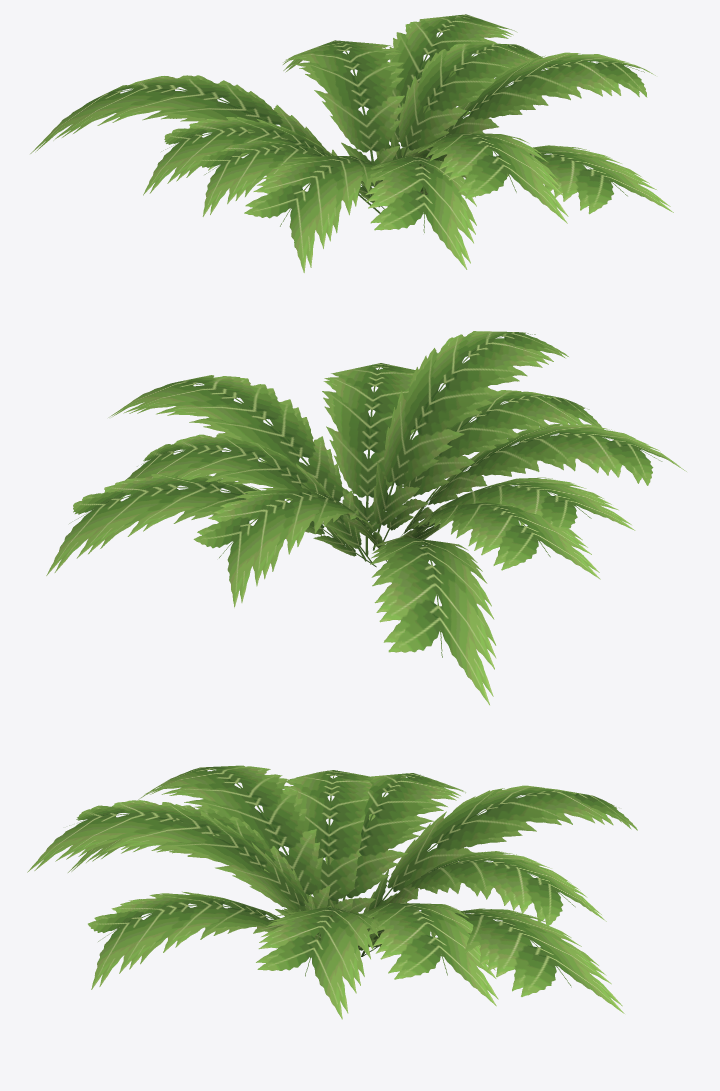
File: fern_a.glb
The picture shows the model from 3 angles, top to bottom: view 1: azimuth 30°, elevation 25°; view 2: azimuth 150°, elevation 25°; view 3: azimuth 270°, elevation 25°; orthographic projection. The views are drawn at different scales.
Visible parts, largest first — view 1: leaves; view 2: leaves; view 3: leaves.
Part boxes in pixels (left/top/right/bottom): leaves: left=30, top=14, right=673, bottom=272; leaves: left=46, top=331, right=686, bottom=705; leaves: left=27, top=765, right=637, bottom=1019.
Bounding box in the file's own units: 1.48 × 0.4206 × 1.57.
Materials: 1 (1 with a texture image).
